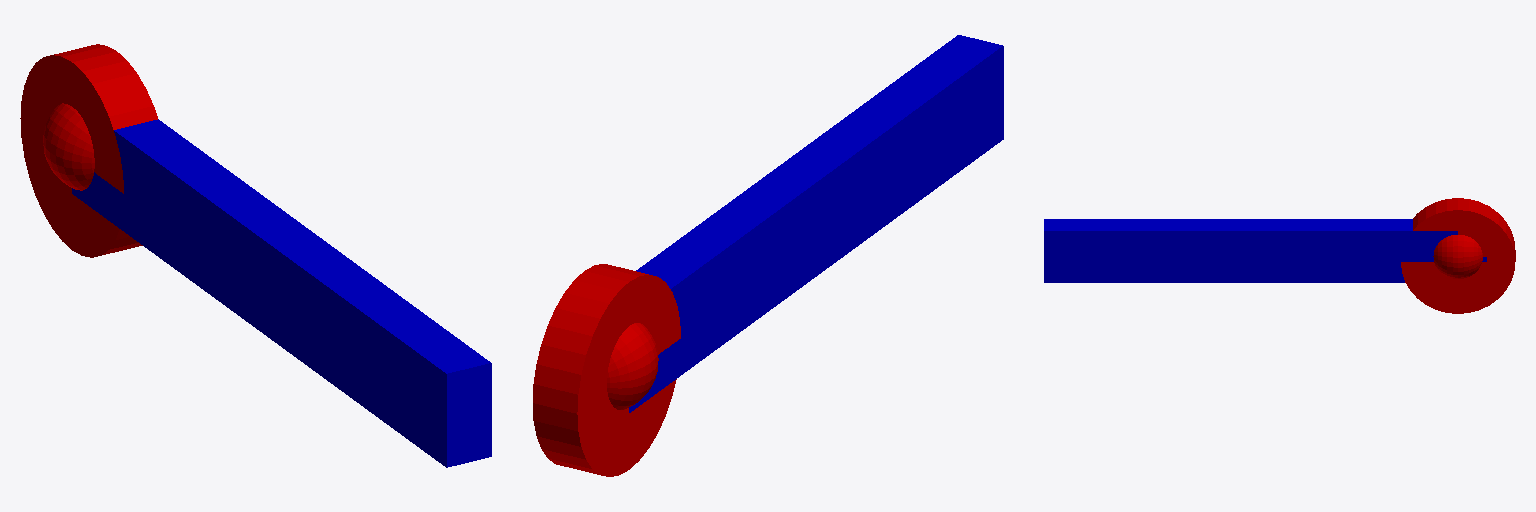
The robot description file, URDF, robot "TwoLinkStruct7816711091":
<?xml version="1.0"?>
<robot  name="TwoLinkStruct7816711091" >
 <material  name="blue" >
  <color  rgba="0 0 0.8 1.0" />
 </material>
 <material  name="red" >
  <color  rgba="0.8 0 0 1.0" />
 </material>
 <link  name="base_link" >
  <visual >
   <origin  rpy="0 1.5707 0"  xyz="0 0 0" />
   <material  name="red" />
   <geometry >
    <cylinder  length="0.05"  radius="0.1" />
   </geometry>
  </visual>
 </link>
 <joint  type="revolute"  name="joint1" >
  <parent  link="base_link" />
  <child  link="link1" />
  <origin  xyz="0 0 0"  rpy="0 0 0" />
  <axis  xyz="1 0 0" />
 </joint>
 <link  name="link1" >
  <inertial >
   <origin  rpy="0 0 0"  xyz="0 0 0.005" />
   <mass  value="0.009821478724479676" />
   <inertia  ixy="0.0"  iyy="4.092282801866532e-06"  izz="2.1279870569705967e-06"  ixz="0.0"  ixx="2.1279870569705967e-06"  iyz="0.0" />
  </inertial>
  <visual >
   <origin  rpy="0 0 0"  xyz="0 0 0.005" />
   <material  name="blue" />
   <geometry >
    <box  size="0.05 0.1 0.01" />
   </geometry>
  </visual>
 </link>
 <joint  type="fixed"  name="joint-joint-1" >
  <parent  link="link1" />
  <child  link="joint-link-1" />
  <origin  xyz="0 0 0.01"  rpy="1.5707 0 0" />
  <axis  xyz="1 0 0" />
 </joint>
 <link  name="joint-link-1" >
  <inertial >
   <origin  rpy="0 0 0"  xyz="0 0 0" />
   <mass  value="5.0" />
   <inertia  ixy="0"  iyy="0"  izz="0"  ixz="0"  ixx="0"  iyz="0" />
  </inertial>
  <visual >
   <origin  rpy="0 0 0"  xyz="0 0 0" />
   <material  name="red" />
   <geometry >
    <sphere  radius="0.05" />
   </geometry>
  </visual>
 </link>
 <joint  type="revolute"  name="joint2" >
  <parent  link="link1" />
  <child  link="link2" />
  <origin  xyz="0 0 0.01"  rpy="1.5707 0 0" />
  <axis  xyz="1 0 0" />
 </joint>
 <link  name="link2" >
  <inertial >
   <origin  rpy="0 0 0"  xyz="0 0 0.36060430625073503" />
   <mass  value="2.0448372540805955" />
   <inertia  ixy="0.0"  iyy="4.092282801866532e-06"  izz="0.0004277596612904307"  ixz="0.0"  ixx="0.0004277596612904307"  iyz="0.0" />
  </inertial>
  <visual >
   <origin  rpy="0 0 0"  xyz="0 0 0.36060430625073503" />
   <material  name="blue" />
   <geometry >
    <box  size="0.05 0.1 0.7212086125014701" />
   </geometry>
  </visual>
 </link>
 <joint  type="fixed"  name="eef_joint" >
  <parent  link="link2" />
  <child  link="eef" />
  <origin  xyz="0 0 0.7212086125014701"  rpy="0 0 0" />
 </joint>
 <link  name="eef" >
  <inertial >
   <origin  rpy="0 0 0"  xyz="0 0 0" />
   <mass  value="1" />
   <inertia  ixy="0"  iyy="0"  izz="0"  ixz="0"  ixx="0"  iyz="0" />
  </inertial>
 </link>
 <transmission  name="motor1" >
  <type  xmltext="SimpleTransmission" >
   SimpleTransmission
  </type>
  <actuator  name="motor1" >
   <mechanicalreduction  xmltext="1" >
    1
   </mechanicalreduction>
  </actuator>
  <joint  name="joint1" />
 </transmission>
 <transmission  name="motor2" >
  <type  xmltext="SimpleTransmission" >
   SimpleTransmission
  </type>
  <actuator  name="motor2" >
   <mechanicalreduction  xmltext="1" >
    1
   </mechanicalreduction>
  </actuator>
  <joint  name="joint2" />
 </transmission>
</robot>

<!-- {'carti': array([-0.1 ,  0.14,  0.85]), 'cartd': array([-0.1 ,  0.32,  1.29]), 'tau_mu': 0.0, 'b0': 0.8204968370973851, 'Km': 1.3238946817285573, 'k_velocity': 15.574493238741184, 'tau_max_m': 3.627197078420346, 'omega_max_m': 1860.6119598919602, 'gear_ratio': 1.7708337311966886, 'Kp': 61.28045122746545, 'Kd': 53.71301746522583, 'm_m': 5.0, 'l1': 0.01, 'l2': 0.7212086125014701, 'k1': 14385.093998246535, 'k2': 0.0, 'k3': 0.0}-->

--- What the picture shows (computed from the rendered views, not written in the file) ---
The picture shows the robot from 3 angles, left to right: view 1: azimuth 30°, elevation 25°; view 2: azimuth 150°, elevation 25°; view 3: azimuth 270°, elevation 25°; orthographic projection.
Robot: TwoLinkStruct7816711091 — 5 links, 4 joints (2 revolute, 2 fixed); root link base_link; default pose: all joints at 0.
Links seen in each view (by area): view 1: link2, base_link, joint-link-1; view 2: link2, base_link, joint-link-1; view 3: link2, base_link, joint-link-1.
Link boxes in pixels (left/top/right/bottom): link2: left=72, top=119, right=491, bottom=467; base_link: left=20, top=44, right=157, bottom=257; joint-link-1: left=43, top=103, right=94, bottom=190; link2: left=629, top=35, right=1003, bottom=412; base_link: left=533, top=264, right=680, bottom=476; joint-link-1: left=607, top=323, right=658, bottom=409; link2: left=1044, top=219, right=1457, bottom=282; base_link: left=1401, top=198, right=1515, bottom=313; joint-link-1: left=1433, top=235, right=1482, bottom=278.
Size in the robot's own frame: 0.1 by 0.8212 by 0.2 metres.
Geometry: primitives only (box / cylinder / sphere), no mesh files.
